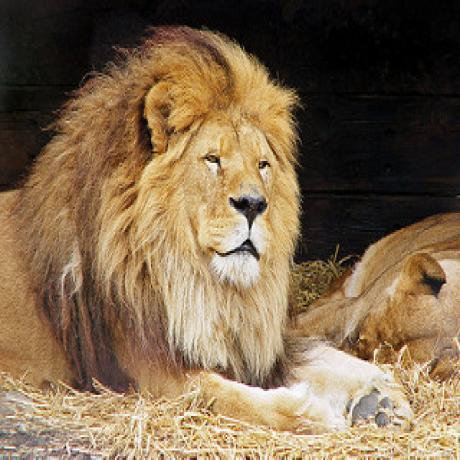Lion: (0, 15, 299, 433), (313, 215, 460, 393)
